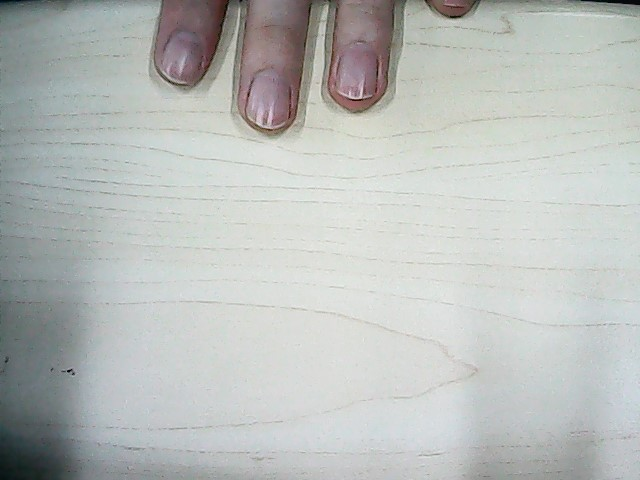nail: (245, 67, 293, 128), (333, 36, 380, 97), (157, 27, 203, 82)
